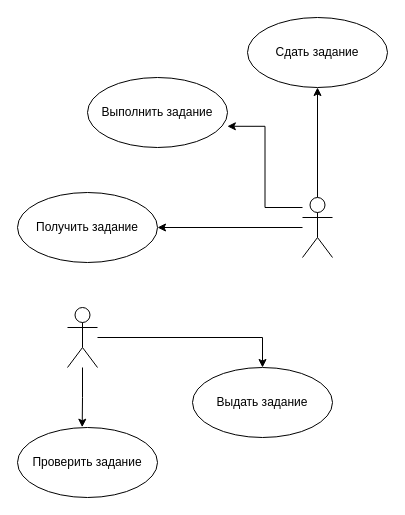
This 405x515 diagram has some shape labels left out. The shapes that lost their labels are listed below. From the top down, each one's centre as x and y in pixels, then its label:
At [317,227]: "Евгений".
At [82,337]: "Васецкий".
